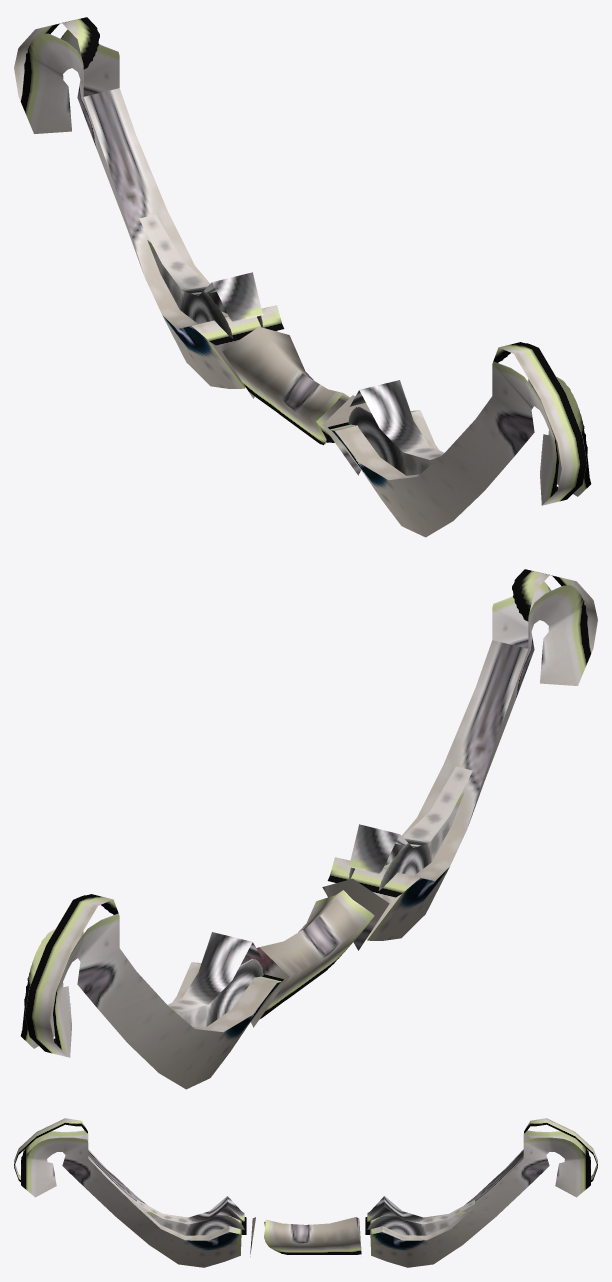
3 views of the same model, one above another, from view 1: azimuth 30°, elevation 25°; view 2: azimuth 150°, elevation 25°; view 3: azimuth 270°, elevation 25° (orthographic). The views are drawn at different scales.
Parts seen in each view (by area): view 1: mBow; view 2: mBow; view 3: mBow.
Part boxes in pixels (bbox=[...]): mBow: bbox=[14, 17, 591, 537]; mBow: bbox=[20, 569, 597, 1089]; mBow: bbox=[14, 1118, 597, 1267].
Size of the model in its own units: 0.0745 by 0.2263 by 0.8262.
